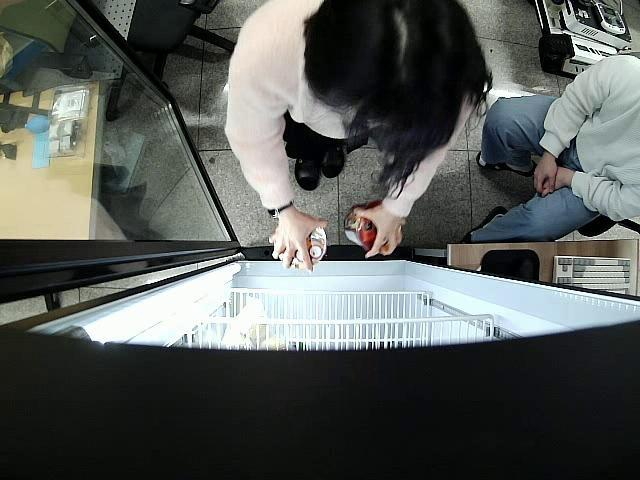05_nuguri_L: (345, 198, 402, 252), (274, 218, 325, 269)
